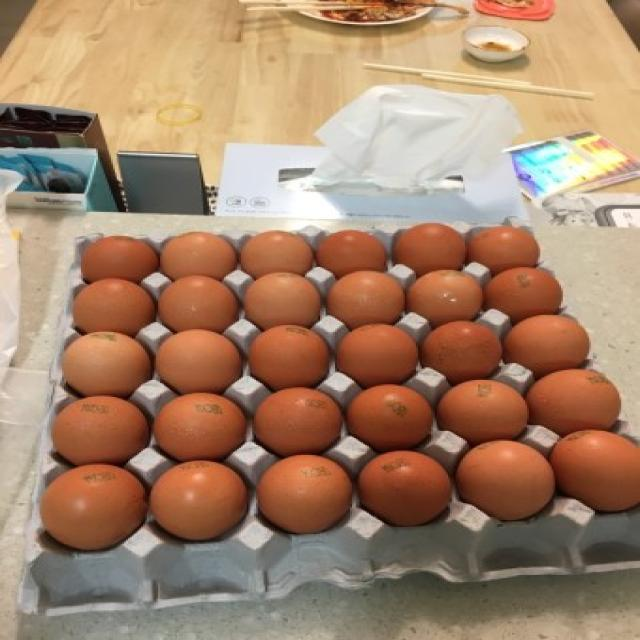eggs: (37, 464, 153, 558), (142, 455, 254, 544), (449, 438, 558, 522), (349, 447, 455, 529), (252, 454, 355, 536), (46, 393, 154, 466), (549, 430, 640, 512), (524, 368, 622, 437), (245, 385, 343, 454), (343, 380, 436, 450), (156, 392, 248, 462), (58, 330, 152, 395), (155, 327, 242, 395), (502, 312, 594, 374), (433, 377, 531, 435), (330, 321, 420, 384), (242, 327, 332, 384), (151, 272, 236, 332), (320, 269, 409, 326), (419, 321, 503, 381), (236, 270, 322, 328), (69, 278, 158, 329), (387, 221, 464, 275), (156, 229, 242, 277), (77, 235, 162, 283), (403, 270, 484, 318), (481, 268, 567, 313), (312, 230, 398, 272), (312, 225, 386, 271), (466, 227, 544, 270), (238, 232, 318, 265)
